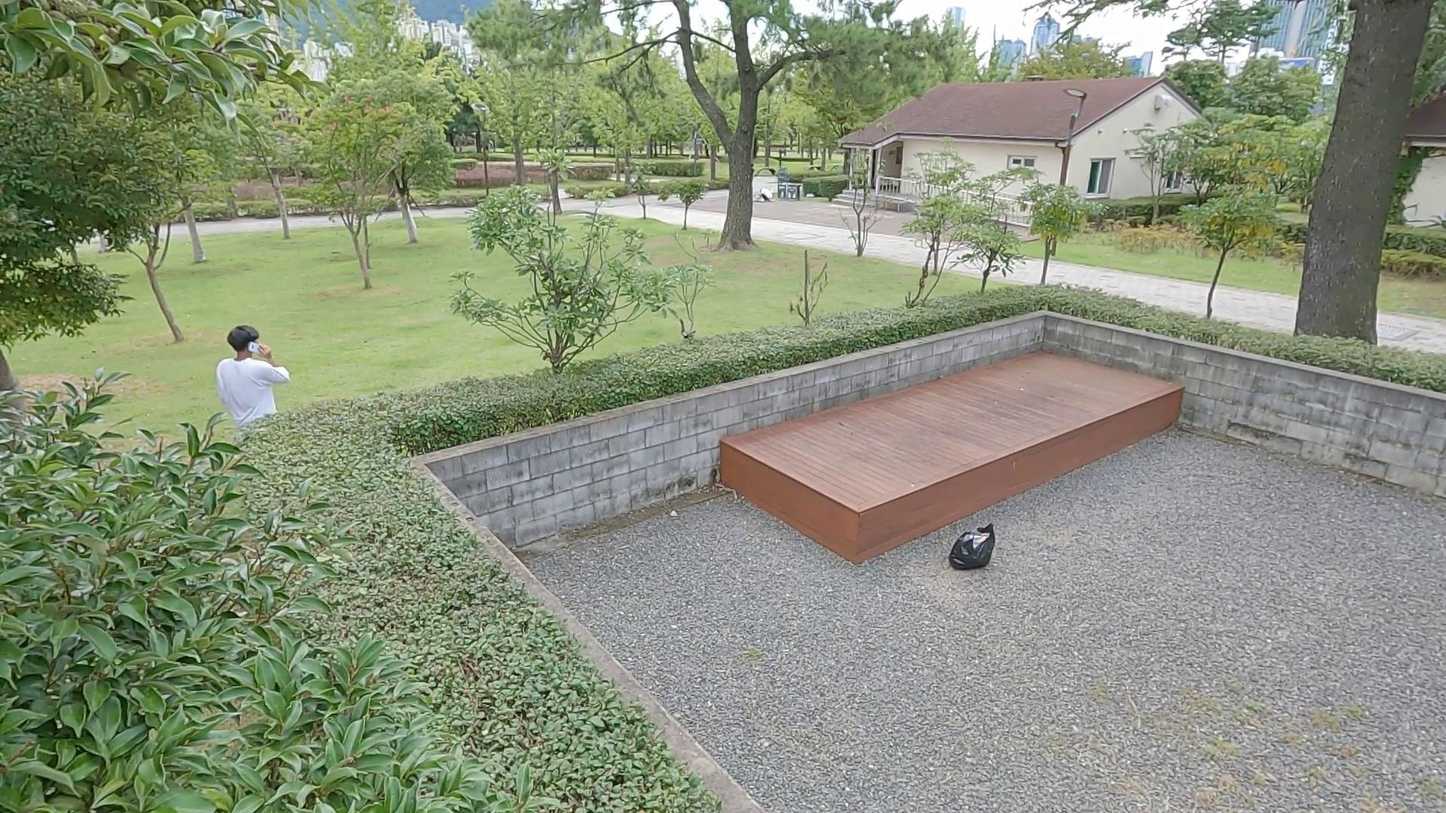person: (212, 319, 292, 479)
trash: (947, 519, 998, 569)
